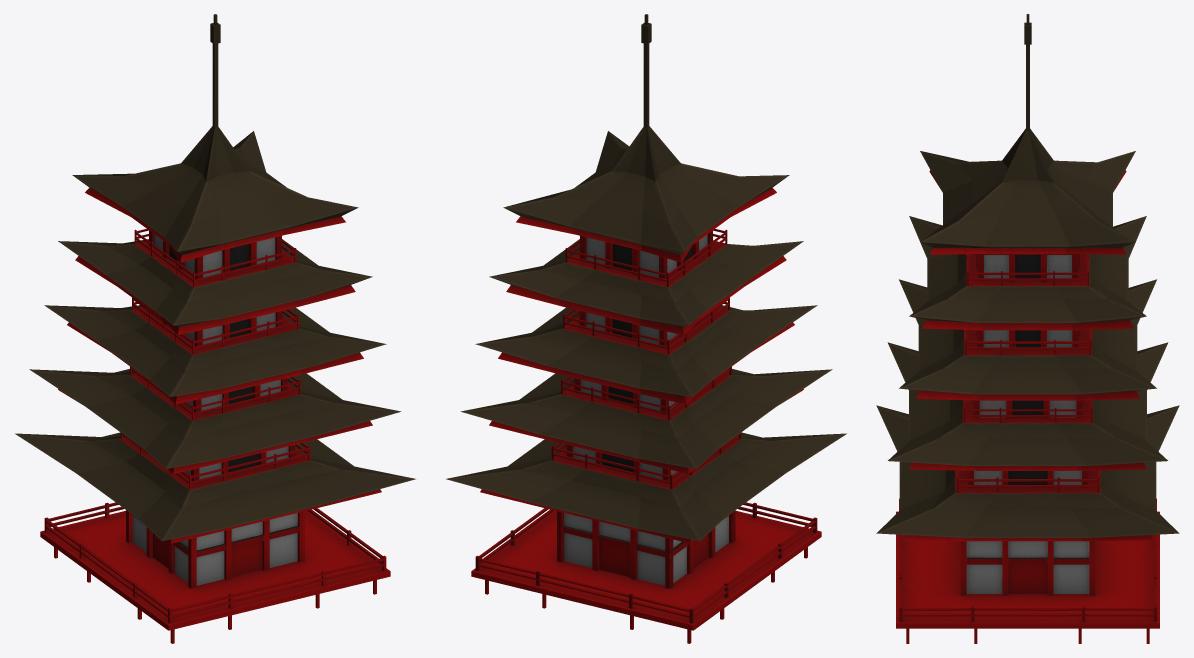
Rendered from Pagoda.glb.
3 views of the same model, side by side, from view 1: azimuth 30°, elevation 25°; view 2: azimuth 150°, elevation 25°; view 3: azimuth 270°, elevation 25° (orthographic). The views are drawn at different scales.
Parts seen in each view (by area): view 1: node-0; view 2: node-0; view 3: node-0.
Part boxes in pixels (x1,y1,x2,y2): node-0: [15, 14, 415, 643]; node-0: [446, 14, 846, 643]; node-0: [876, 14, 1179, 643].
Bounding box in the file's own units: 26.41 × 55.5 × 26.41.
1 material, 1 textured.
